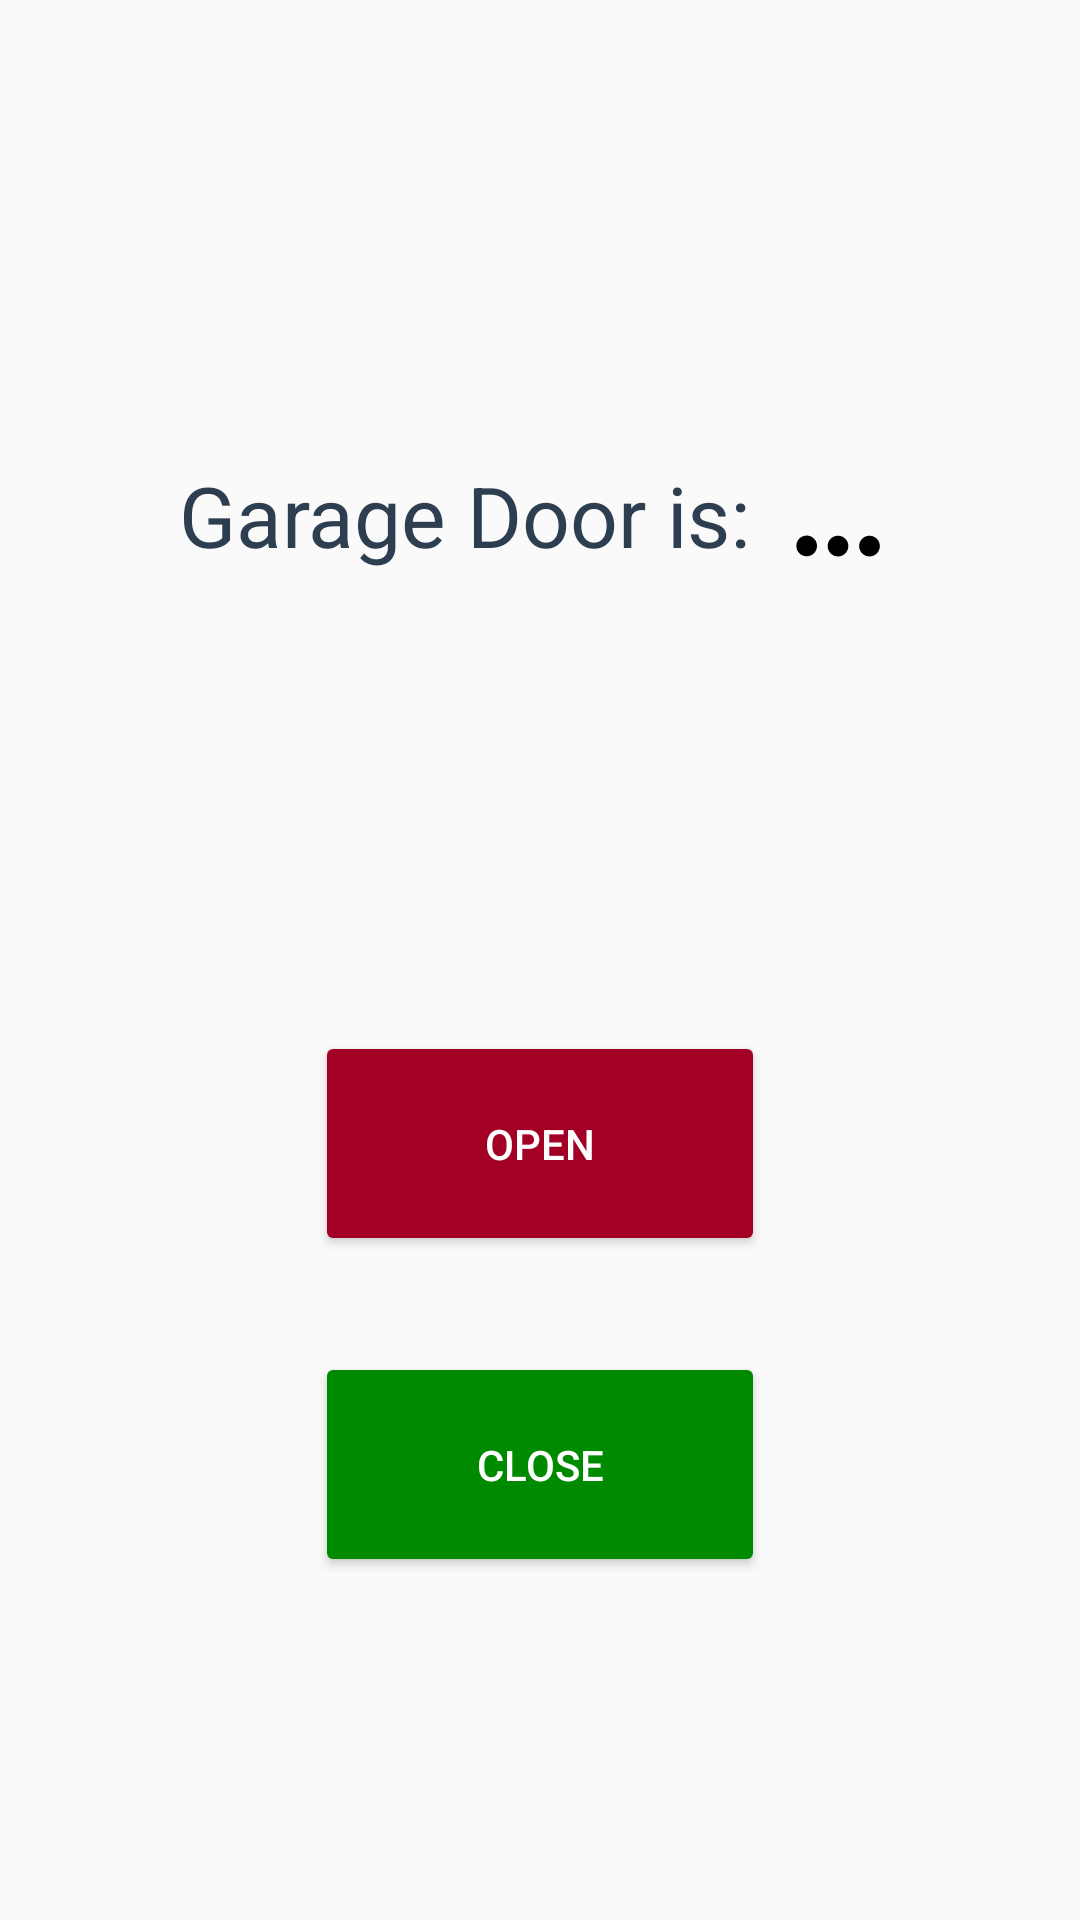

Point at icon controls on the screen. Image size 1080 x 1920, points as [x,y].
av progress: [838,546]
